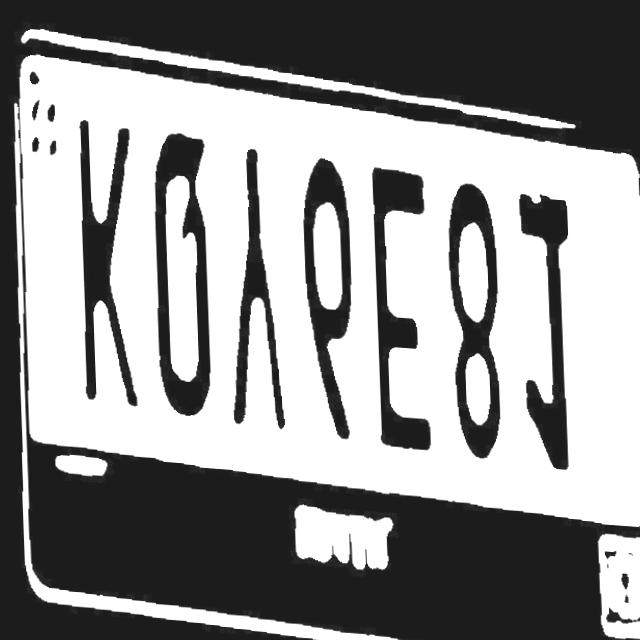1: (504, 174, 584, 469)
6: (292, 142, 360, 437)
8: (435, 168, 507, 454)
e: (360, 151, 436, 449)
k: (63, 114, 140, 411)
q: (136, 114, 220, 418)
y: (218, 138, 294, 430)
